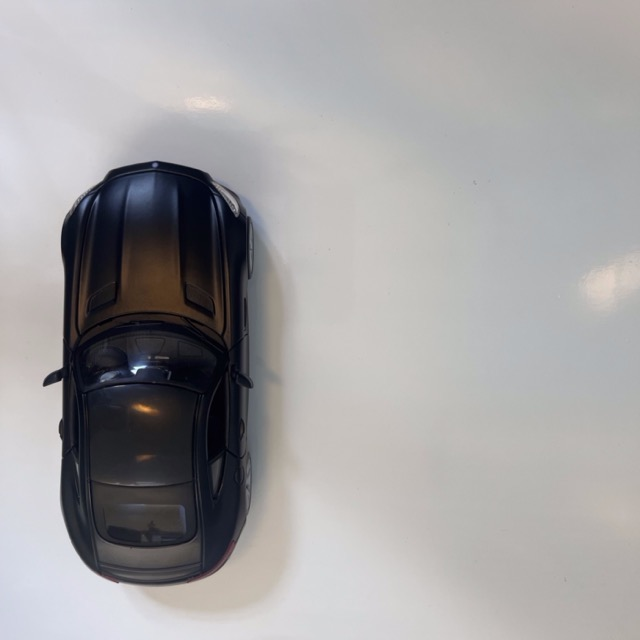car: (44, 160, 256, 586)
